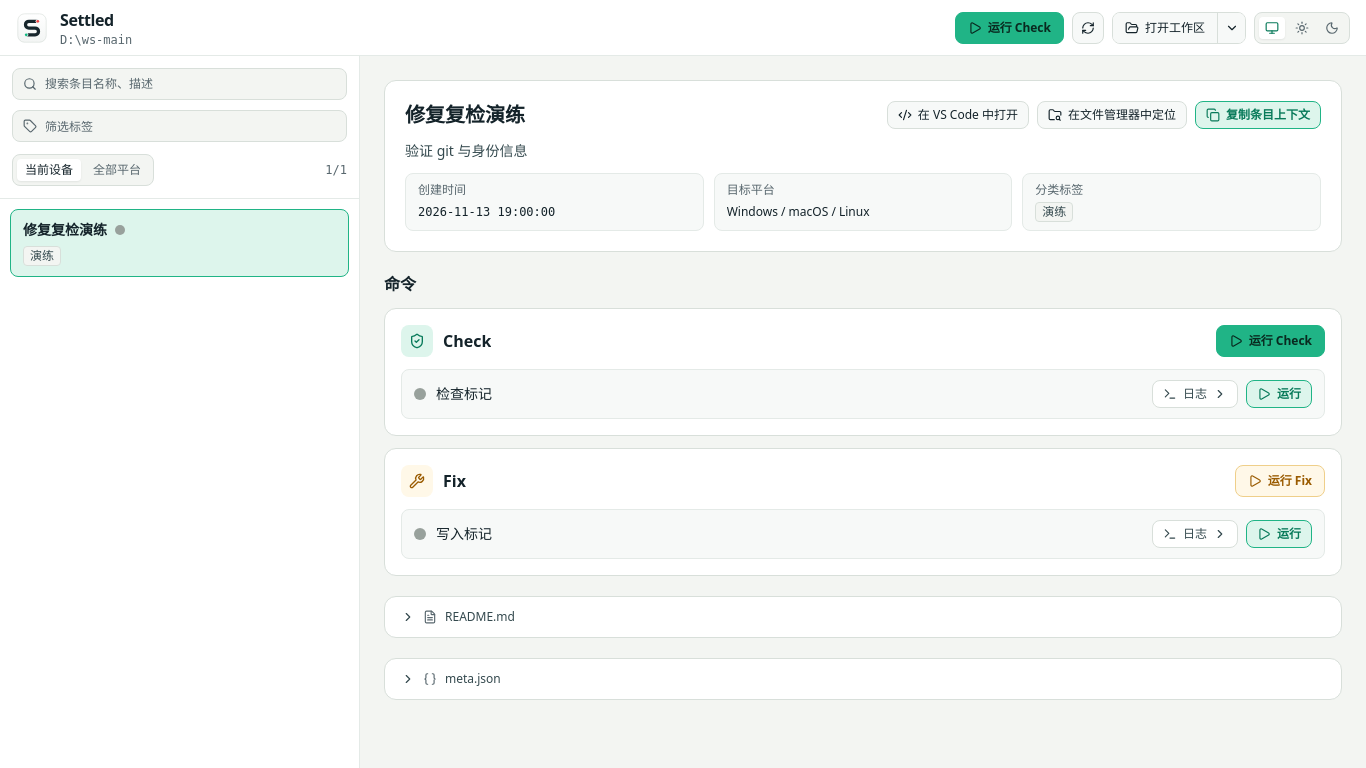
Test case: App integration › routes in-flight run events to shifted command indices on hot reload and handles IPC failures
Expected: the text "D:\\ws-main" is shown, [60,32,132,48]
// Start single check command at index 0
What coordinates should you click on to do the following:
click the button "运行" in the row of "检查标记"
I would click on:
 (1279, 394)
Its box is [1246,380,1312,408].
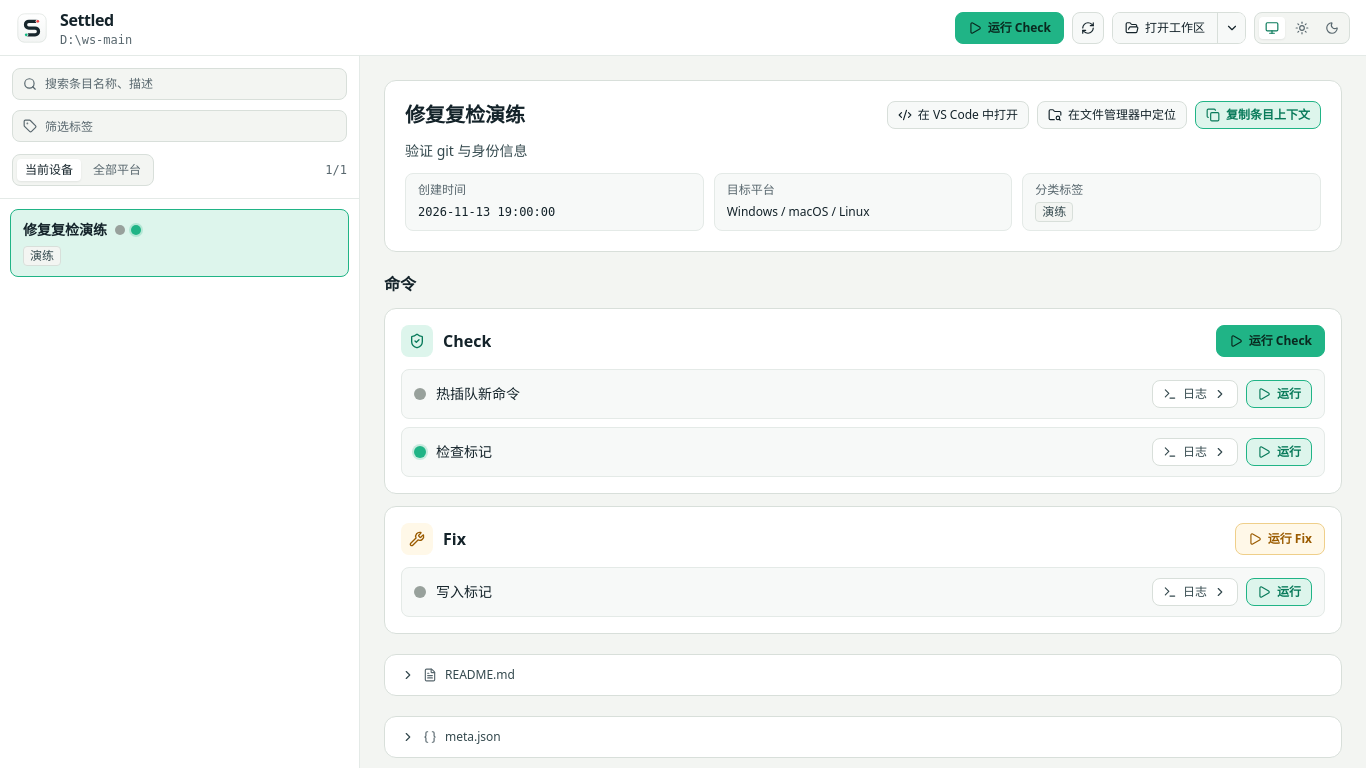
Expected: the text "热插队新命令" is shown, [436,384,520,404]
Expected: the text "中止" in the row of "检查标记" is shown, [1277,444,1301,460]
What coordinates should you click on to do the following:
click the button "运行" in the row of "热插队新命令"
I would click on:
 (1279, 394)
Its box is [1246,380,1312,408].
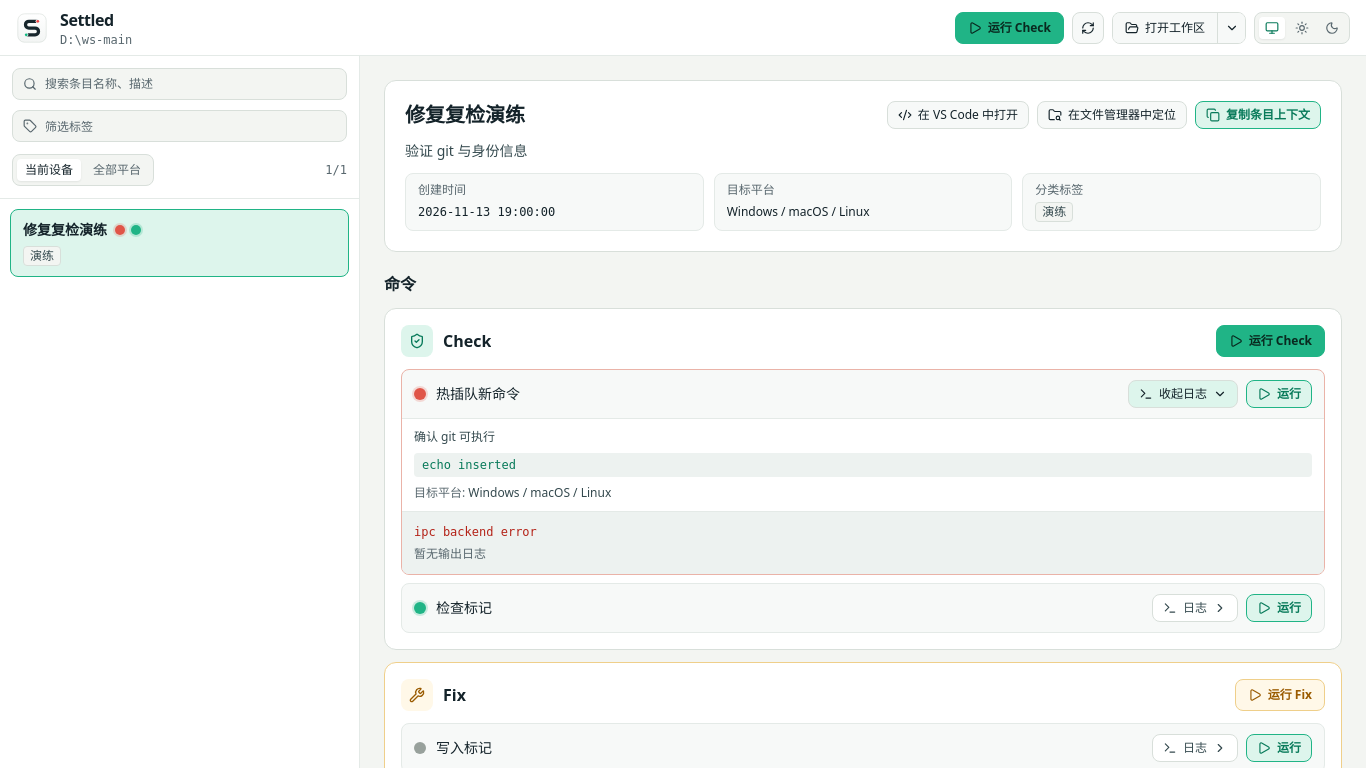
Expected: the text "ipc backend error" is shown, [414,525,537,539]
